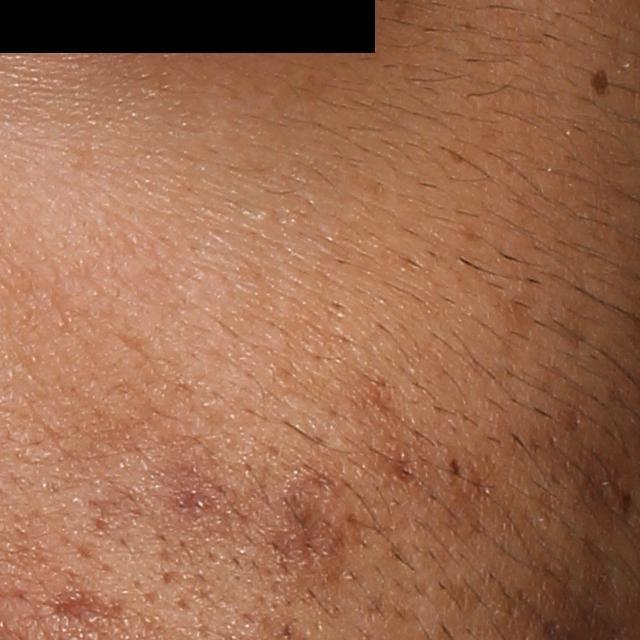nevus: (586, 65, 614, 100)
